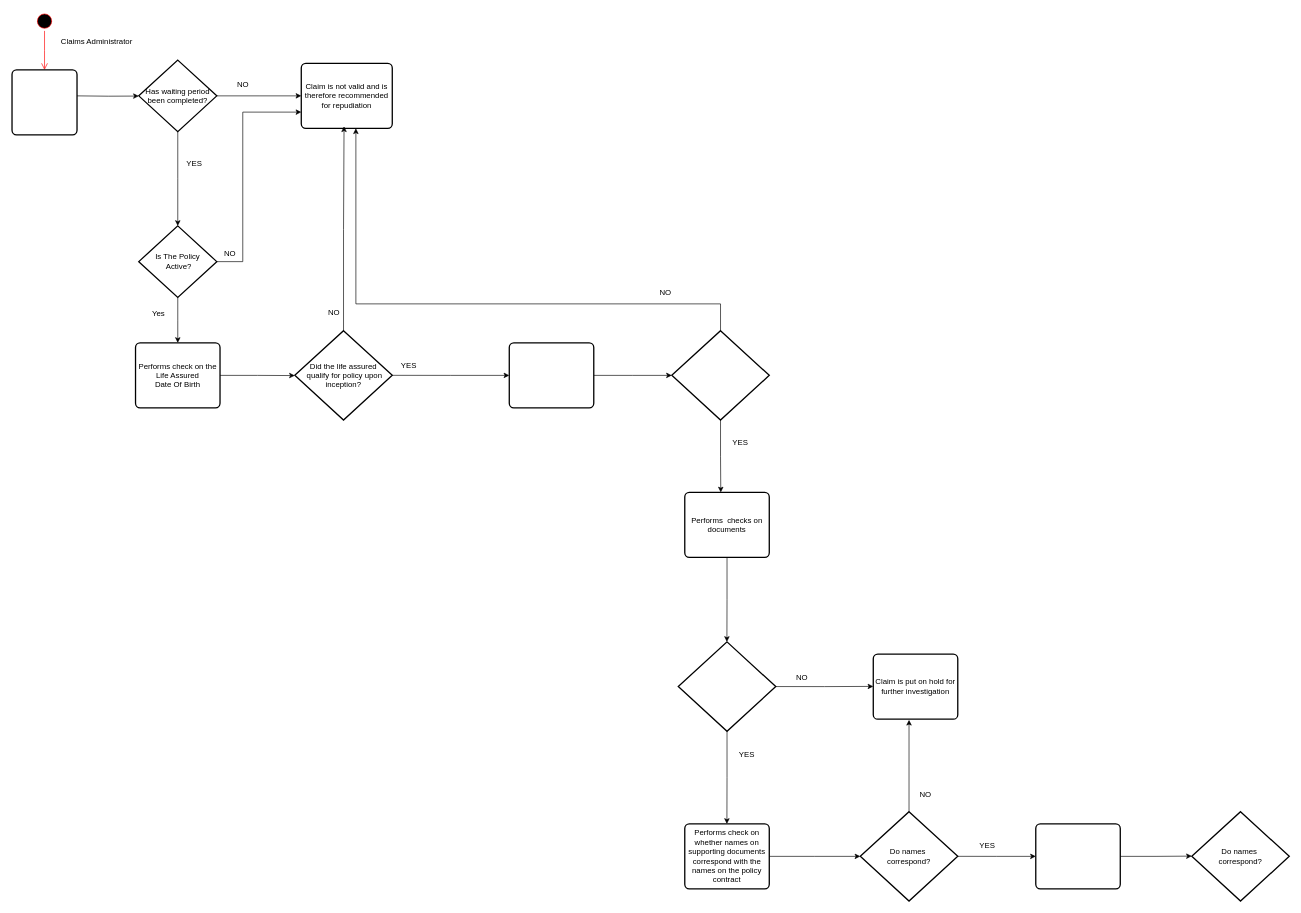
Some shapes in this 1301 by 913 pixel diagram are drawn without their labels. Each missing label, with the centre of its shape:
"Are Documents authentic?" goes at [726,686].
"Is the cause of death covered in the policy?" goes at [720,375].
"Pefroms the waiting period check" goes at [44,102].
"Performs checks on beneficiary on the claim form" goes at [1078,856].
"Performs the cause of death where applicable" goes at [551,375].
